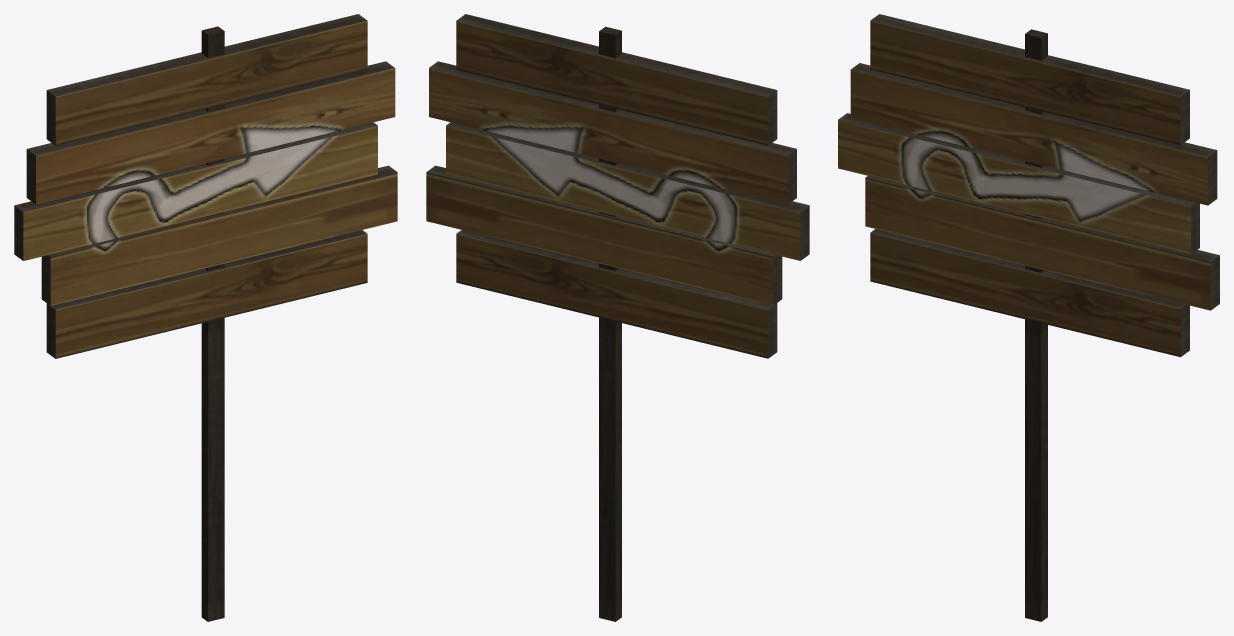
The model's file is sign.FBX.
3 renders of one model, left to right at view 1: azimuth 30°, elevation 25°; view 2: azimuth 150°, elevation 25°; view 3: azimuth 330°, elevation 25°, orthographic.
Parts seen in each view (by area): view 1: 005; view 2: 005; view 3: 005.
Part boxes in pixels (<box>): 005: <box>14,14,397,621</box>; 005: <box>426,14,809,621</box>; 005: <box>838,14,1219,621</box>.
Bounding box in the file's own units: 1479 × 2215 × 62.68.
Materials: 1 (1 with a texture image).
